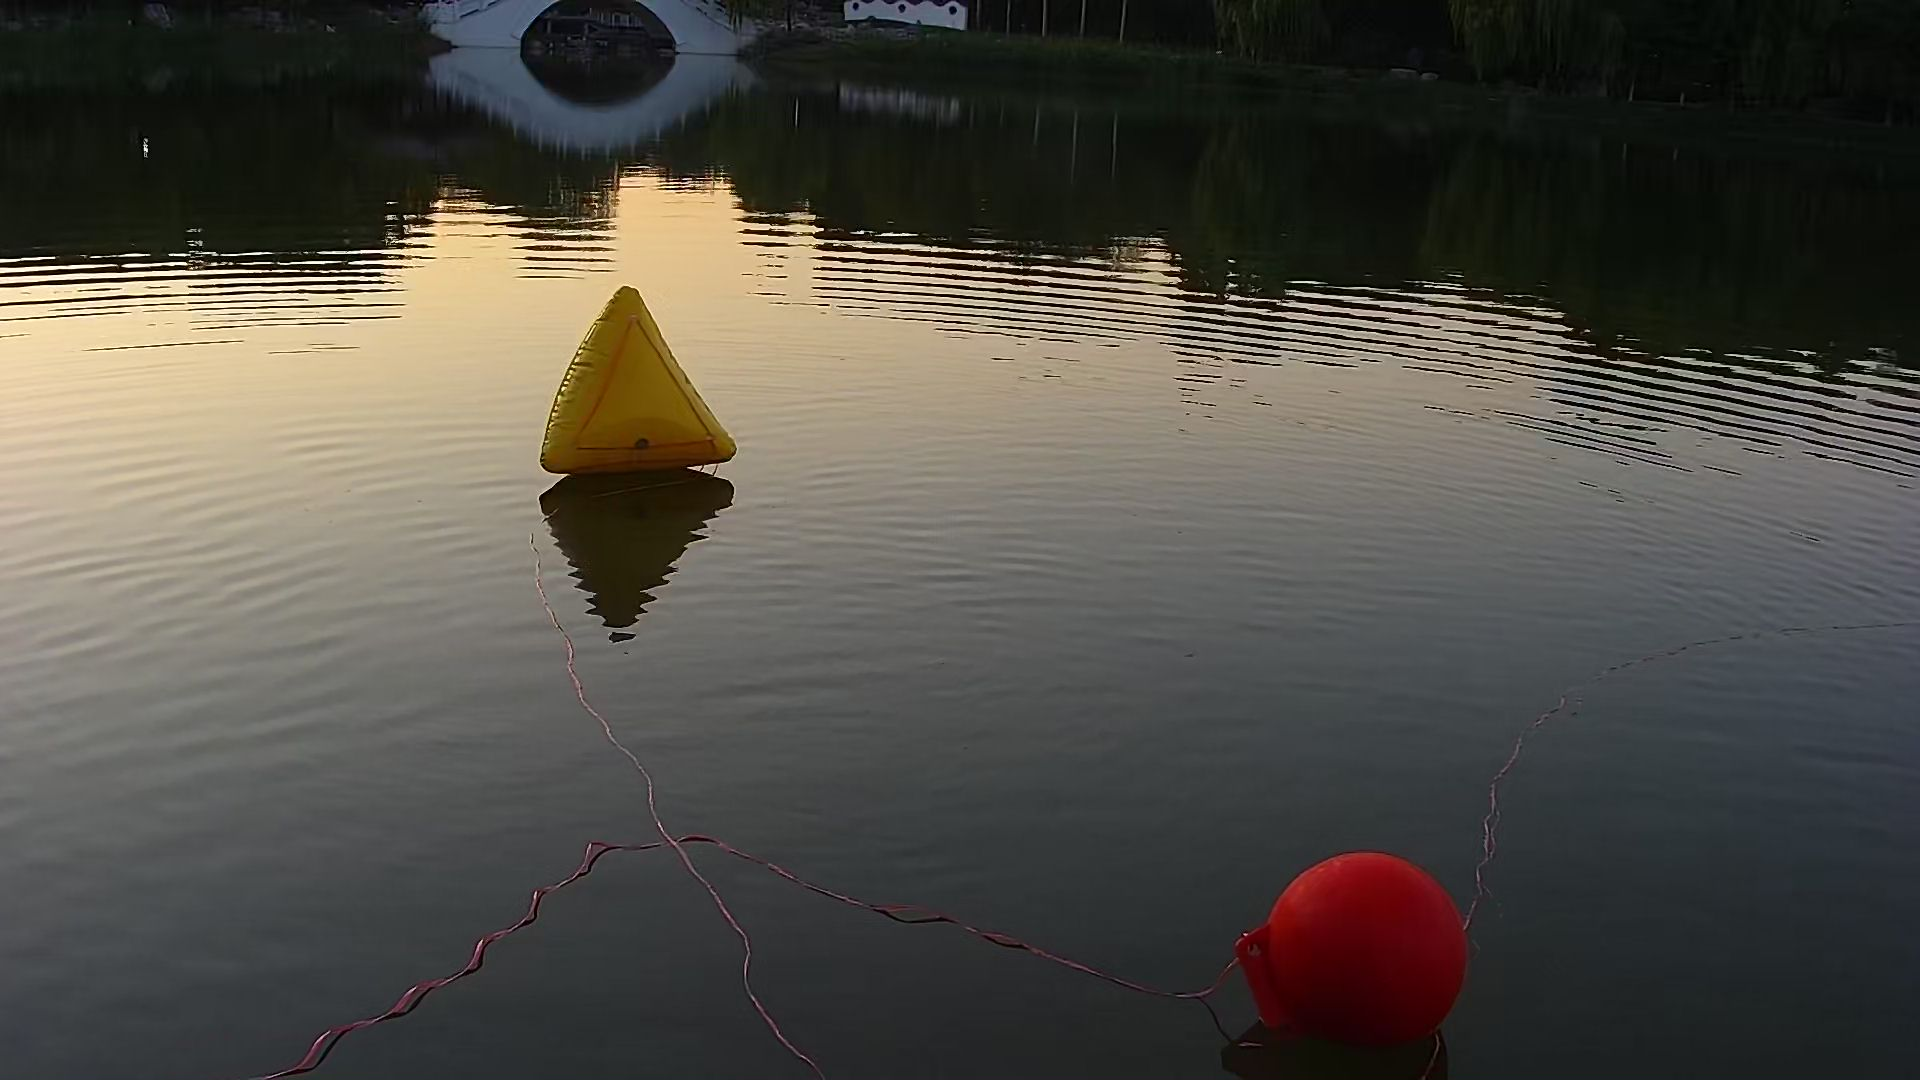ball: (1237, 851, 1476, 1050)
rubbish: (521, 276, 742, 483)
